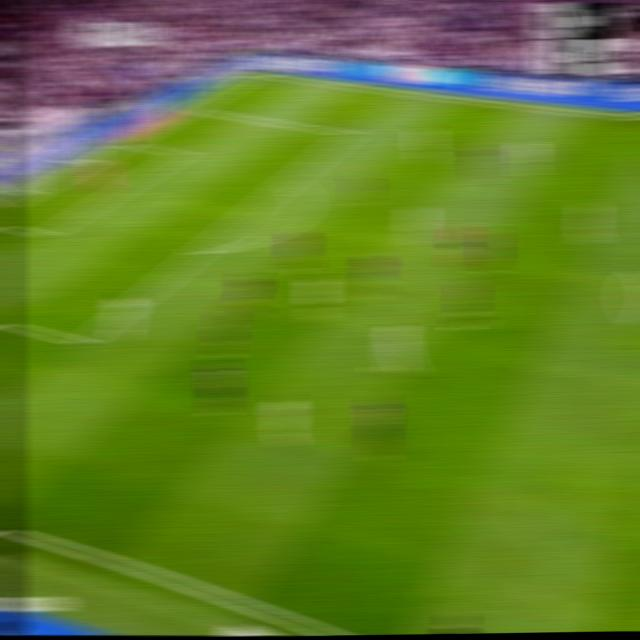bigarea_bottom_inner: (71, 329, 95, 354)
bigarea_top_inner: (339, 125, 360, 141)
bottom_arc_area_intersection: (189, 241, 211, 260)
corner: (247, 69, 268, 79)
smallarea_top_inner: (172, 147, 191, 159)
top_arc_area_intersection: (280, 171, 301, 187)
